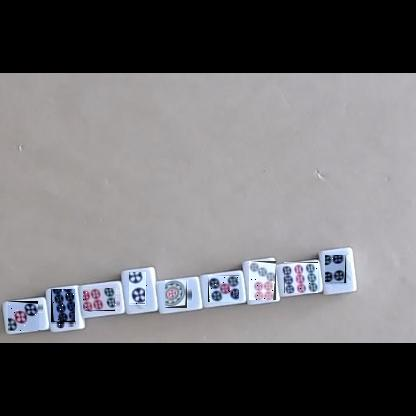1p: (166, 280, 192, 308)
2p: (130, 273, 150, 309)
3p: (9, 301, 43, 331)
4p: (326, 256, 351, 288)
5p: (208, 275, 239, 302)
6p: (84, 288, 120, 311)
7p: (249, 261, 276, 300)
8p: (51, 290, 75, 327)
9p: (284, 262, 318, 293)
